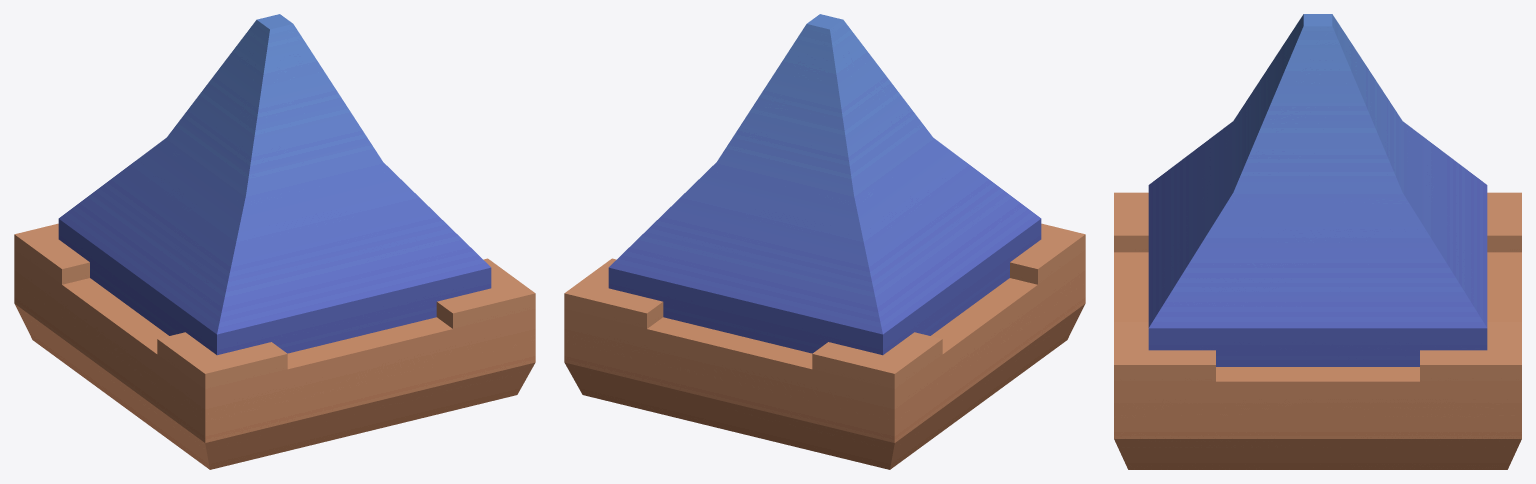
Rendered from tower-square-top-roof.glb.
3 views of the same model, side by side, from view 1: azimuth 30°, elevation 25°; view 2: azimuth 150°, elevation 25°; view 3: azimuth 270°, elevation 25° (orthographic). The views are drawn at different scales.
Parts seen in each view (by area): view 1: tower-square-top-roof; view 2: tower-square-top-roof; view 3: tower-square-top-roof.
Boxes of the visible parts, x1,y1,x2,y2 form: tower-square-top-roof: (14, 14, 535, 469); tower-square-top-roof: (564, 14, 1085, 469); tower-square-top-roof: (1114, 14, 1521, 469).
Bounding box in the file's own units: 1 × 1 × 1.
1 material, 1 textured.
